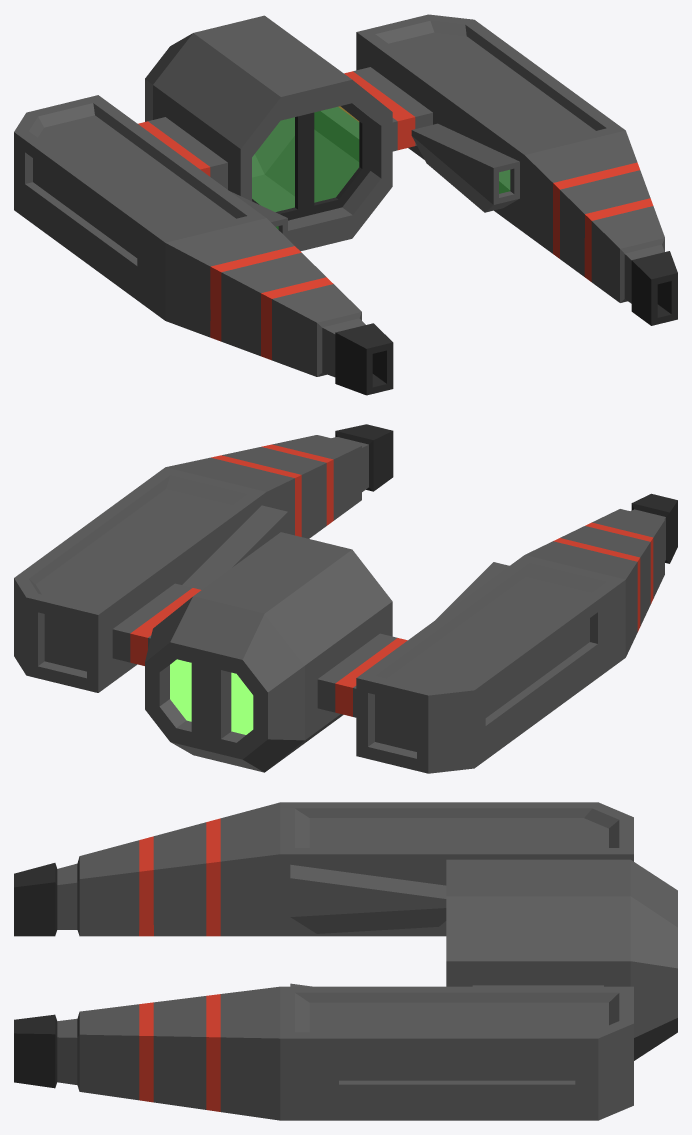
Rendered from ks_enemy_ship_002.fbx.
3 renders of one model, top to bottom at view 1: azimuth 30°, elevation 25°; view 2: azimuth 150°, elevation 25°; view 3: azimuth 270°, elevation 25°, orthographic. The views are drawn at different scales.
Visible parts, largest first — view 1: Cube.053; view 2: Cube.053; view 3: Cube.053.
Boxes of the visible parts, x1,y1,x2,y2 form: Cube.053: (14,14,677,395); Cube.053: (14,424,677,773); Cube.053: (14,802,677,1120).
Bounding box in the file's own units: 606 × 200 × 720.
